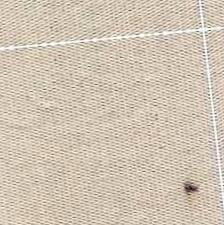stain: (180, 176, 203, 197)
